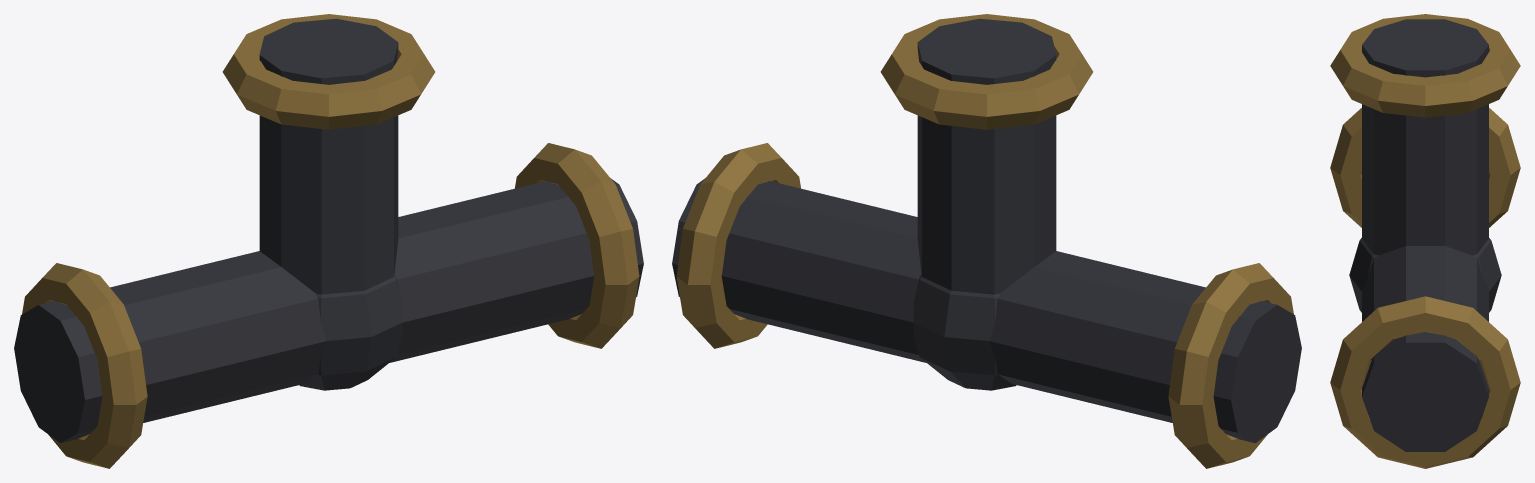
File: tt_pipe_tee.glb
3 renders of one model, left to right at view 1: azimuth 30°, elevation 25°; view 2: azimuth 150°, elevation 25°; view 3: azimuth 270°, elevation 25°, orthographic. The views are drawn at different scales.
Visible parts, largest first — view 1: Run, Branch, Collar.002, Collar, Collar.001, Junction; view 2: Run, Branch, Collar.002, Collar, Collar.001, Junction; view 3: Branch, Run, Collar.001, Collar.002, Collar, Junction.
Part boxes in pixels (x1,y1,x2,y2): Run: (14,178,643,443); Branch: (259,18,398,294); Collar.002: (222,14,435,129); Collar: (22,263,147,468); Collar.001: (515,143,639,348); Junction: (299,274,402,390); Run: (672,178,1301,443); Branch: (917,18,1056,294); Collar.002: (880,14,1093,129); Collar: (1168,263,1293,468); Collar.001: (676,143,800,348); Junction: (913,274,1016,390); Branch: (1362,19,1488,255); Run: (1362,246,1488,451); Collar.001: (1330,296,1520,468); Collar.002: (1330,14,1520,117); Collar: (1330,108,1520,227); Junction: (1349,238,1501,312).
Bounding box in the file's own units: 1 × 0.605 × 0.33.
